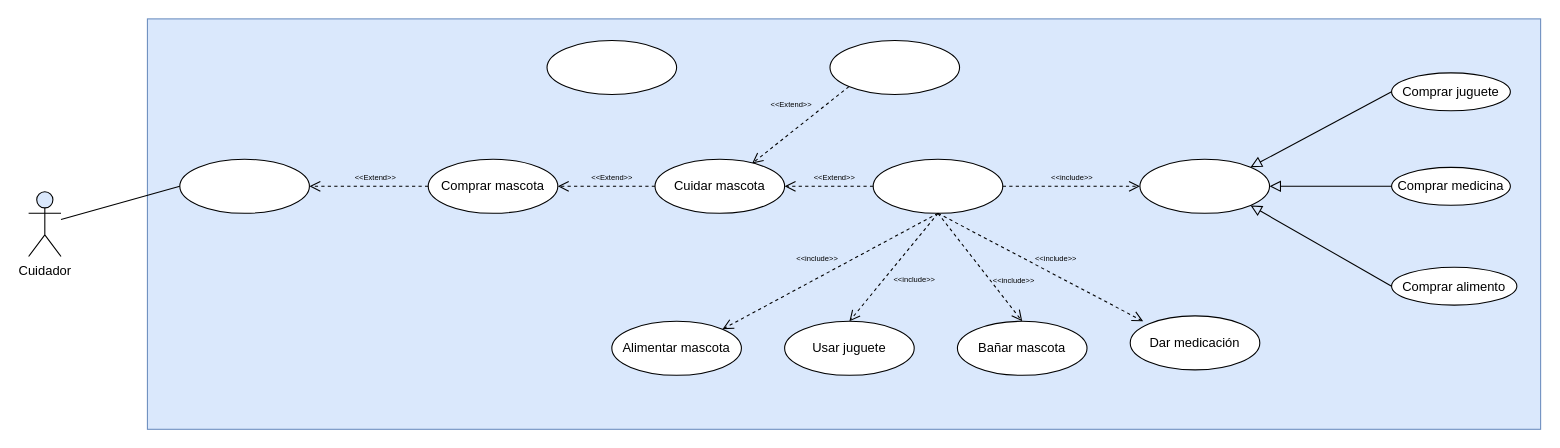
This 1560x448 diagram has some shape labels left out. The centre of each missing label's shape, as x and y in pixels:
Comprar: (x=1204, y=185)
Comprar escenario: (x=244, y=185)
Elegir desde menú: (x=937, y=185)
Vender mascota: (x=611, y=66)
Ver estado de mascota: (x=894, y=66)
